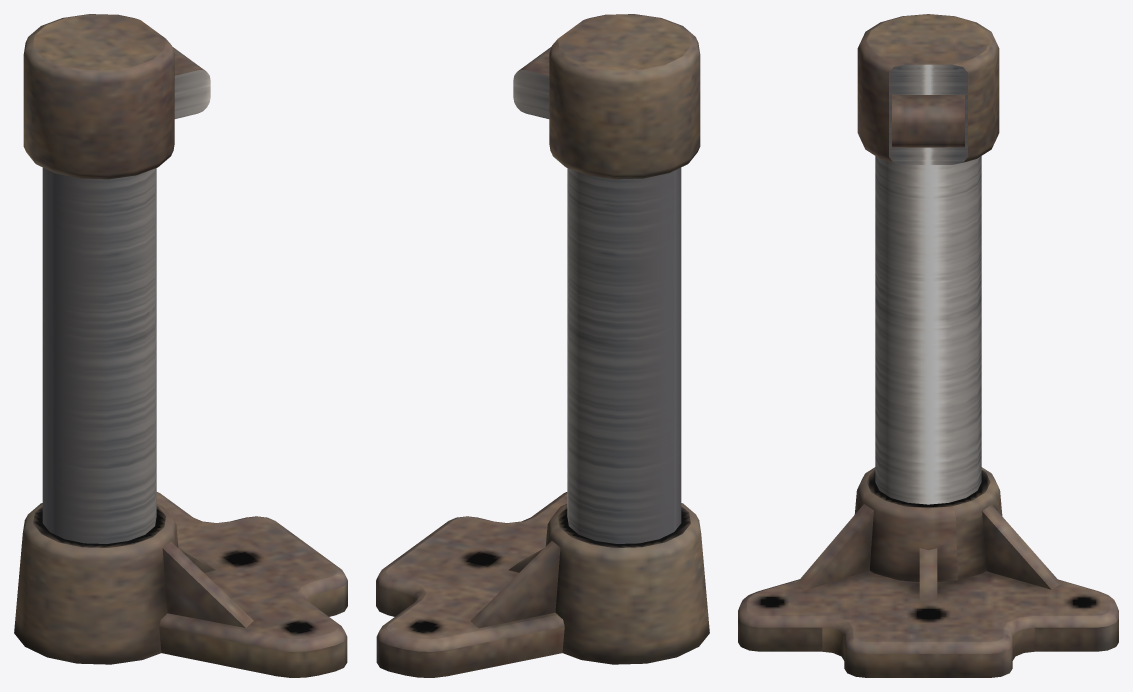
The model's file is ammomaker_ReloadingPressBase.fbx.
The picture shows the model from 3 angles, left to right: view 1: azimuth 30°, elevation 25°; view 2: azimuth 150°, elevation 25°; view 3: azimuth 270°, elevation 25°; orthographic projection. The views are drawn at different scales.
Parts seen in each view (by area): view 1: ammomaker_ReloadingPressBase; view 2: ammomaker_ReloadingPressBase; view 3: ammomaker_ReloadingPressBase.
Part boxes in pixels (box(x1,y1,x2,y2)): ammomaker_ReloadingPressBase: box(14, 14, 347, 677); ammomaker_ReloadingPressBase: box(376, 14, 709, 677); ammomaker_ReloadingPressBase: box(738, 14, 1118, 677).
Bounding box in the file's own units: 6.9 × 13.5 × 8.6.
